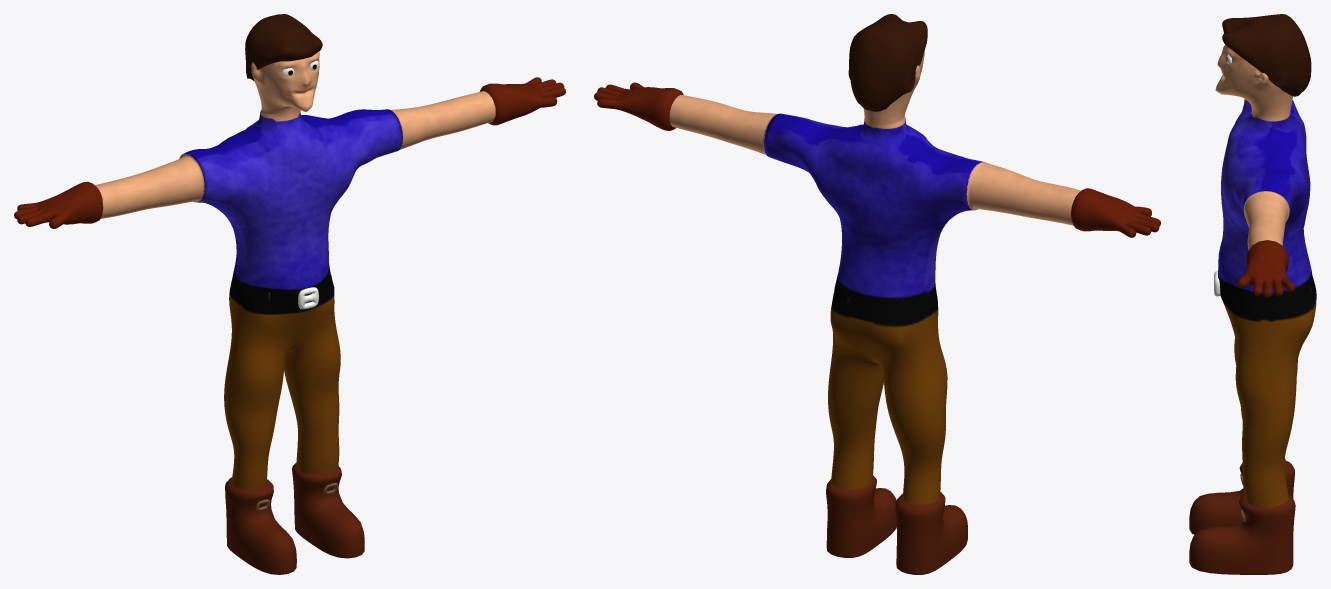
The model's file is Character1.obj.
3 renders of one model, left to right at view 1: azimuth 30°, elevation 25°; view 2: azimuth 150°, elevation 25°; view 3: azimuth 270°, elevation 25°, orthographic. The views are drawn at different scales.
Visible parts, largest first — view 1: Player1_Plane.005; view 2: Player1_Plane.005; view 3: Player1_Plane.005.
Boxes of the visible parts, left/top/right/bottom form: Player1_Plane.005: left=14, top=14, right=565, bottom=574; Player1_Plane.005: left=594, top=14, right=1160, bottom=574; Player1_Plane.005: left=1189, top=14, right=1316, bottom=574.
Size of the model in its own units: 3.81 by 3.47 by 0.7531.
